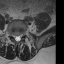CCS_normal: (16, 33, 18, 43)
LFS_normal: (21, 31, 23, 39)
LLS_normal: (18, 33, 21, 42)
RFS_normal: (12, 32, 14, 39)
RLS_normal: (14, 33, 16, 42)
